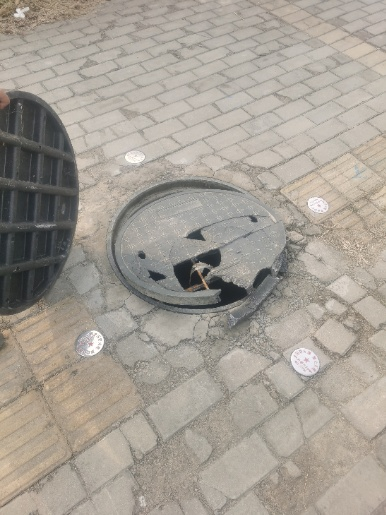broke: (106, 175, 288, 314)
